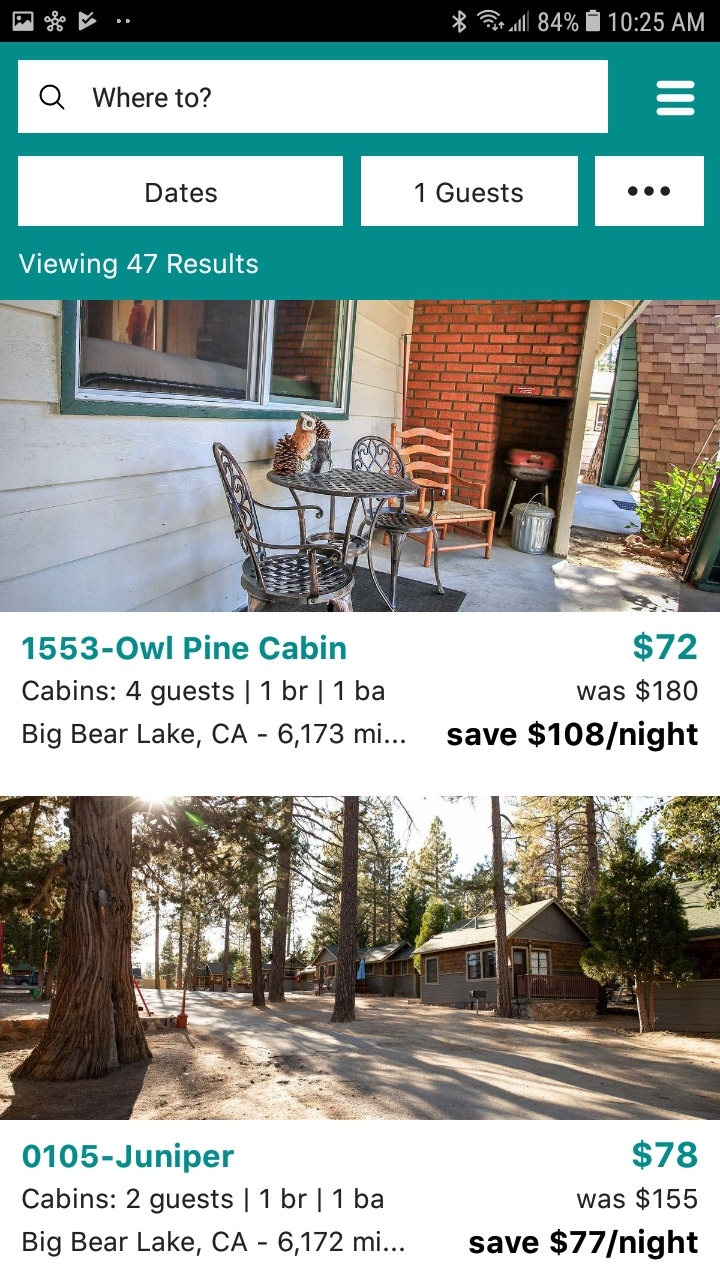EditText: (19, 61, 608, 134)
Icon: (656, 80, 696, 117), (40, 85, 66, 111)
Image: (1, 796, 720, 1121), (1, 301, 720, 612)
Text: (23, 679, 406, 750), (23, 1187, 405, 1258), (23, 634, 347, 661), (447, 720, 698, 752), (470, 1227, 699, 1260), (23, 1142, 235, 1174), (20, 253, 259, 280), (576, 1186, 698, 1211), (576, 679, 698, 703), (92, 87, 212, 109), (632, 1140, 697, 1171), (634, 632, 697, 663)
TextButton: (19, 157, 344, 227), (361, 157, 578, 227), (594, 157, 704, 227)
UpperTaskBar: (1, 1, 720, 43)
